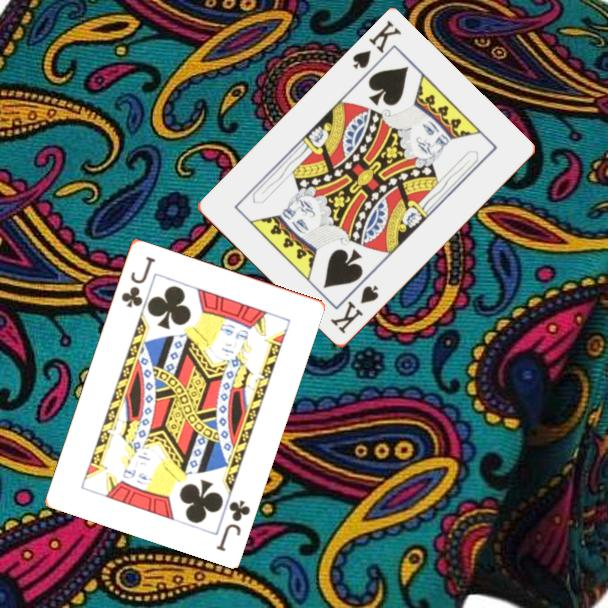c11: (212, 496, 253, 554), (118, 252, 158, 310)
s13: (349, 17, 404, 73), (327, 282, 381, 337)
